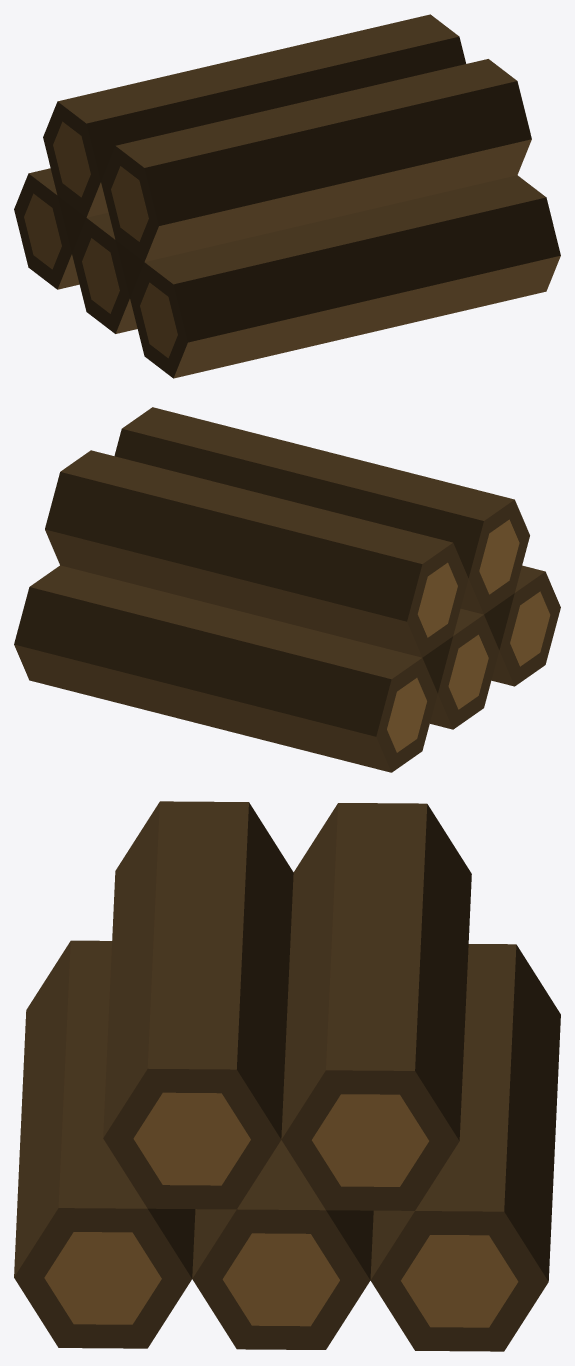
The model's file is IP2_1_log.obj.
3 renders of one model, top to bottom at view 1: azimuth 30°, elevation 25°; view 2: azimuth 150°, elevation 25°; view 3: azimuth 270°, elevation 25°, orthographic. The views are drawn at different scales.
Parts seen in each view (by area): view 1: logs_stackLarge; view 2: logs_stackLarge; view 3: logs_stackLarge.
Part boxes in pixels (x1=…): logs_stackLarge: x1=14, y1=14, x2=560, y2=378; logs_stackLarge: x1=14, y1=407, x2=560, y2=772; logs_stackLarge: x1=14, y1=801, x2=560, y2=1351.
Bounding box in the file's own units: 32.88 × 15.79 × 27.96.
